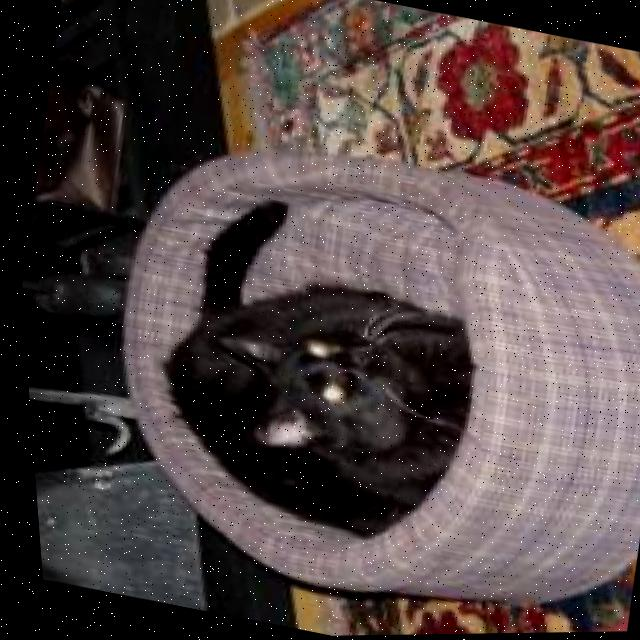Bombay: (117, 179, 508, 559)
